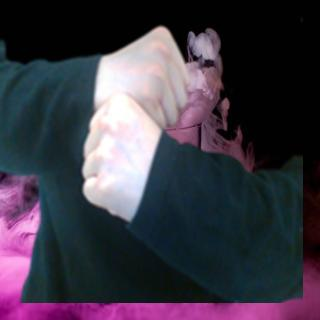CAREFUL: (77, 18, 199, 225)
